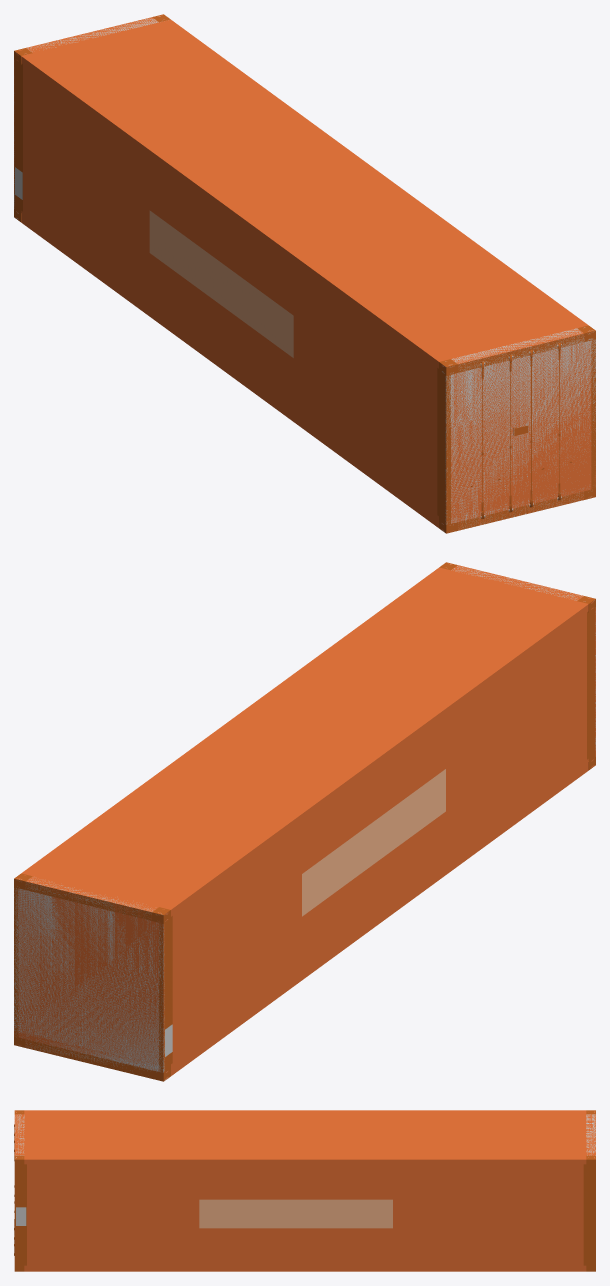
Rendered from s_containers_40_beamng.dae.
3 renders of one model, top to bottom at view 1: azimuth 30°, elevation 25°; view 2: azimuth 150°, elevation 25°; view 3: azimuth 270°, elevation 25°, orthographic. The views are drawn at different scales.
Parts seen in each view (by area): view 1: s_containers_40_beamng_a40, Colmesh_s_containers_40_beamng-1, s_containers_40_beamng_a1500, s_containers_40_beamng_a150, s_containers_40_beamng_a600; view 2: s_containers_40_beamng_a40, Colmesh_s_containers_40_beamng-1, s_containers_40_beamng_a150, s_containers_40_beamng_a1500, s_containers_40_beamng_a600; view 3: s_containers_40_beamng_a40, s_containers_40_beamng_a1500, s_containers_40_beamng_a600, Colmesh_s_containers_40_beamng-1, s_containers_40_beamng_a150.
Boxes of the visible parts, x1,y1,x2,y2 form: s_containers_40_beamng_a40: (14,15,595,532); Colmesh_s_containers_40_beamng-1: (14,16,595,530); s_containers_40_beamng_a1500: (14,14,595,533); s_containers_40_beamng_a150: (446,331,595,533); s_containers_40_beamng_a600: (14,16,595,532); s_containers_40_beamng_a40: (14,563,595,1079); Colmesh_s_containers_40_beamng-1: (14,564,595,1080); s_containers_40_beamng_a150: (14,879,163,1081); s_containers_40_beamng_a1500: (14,562,595,1081); s_containers_40_beamng_a600: (14,564,595,1080); s_containers_40_beamng_a40: (14,1110,595,1271); s_containers_40_beamng_a1500: (14,1110,595,1271); s_containers_40_beamng_a600: (14,1111,595,1271); Colmesh_s_containers_40_beamng-1: (15,1114,595,1157); s_containers_40_beamng_a150: (14,1159,595,1271).
Bounding box in the file's own units: 2.48 × 12.21 × 2.59.
